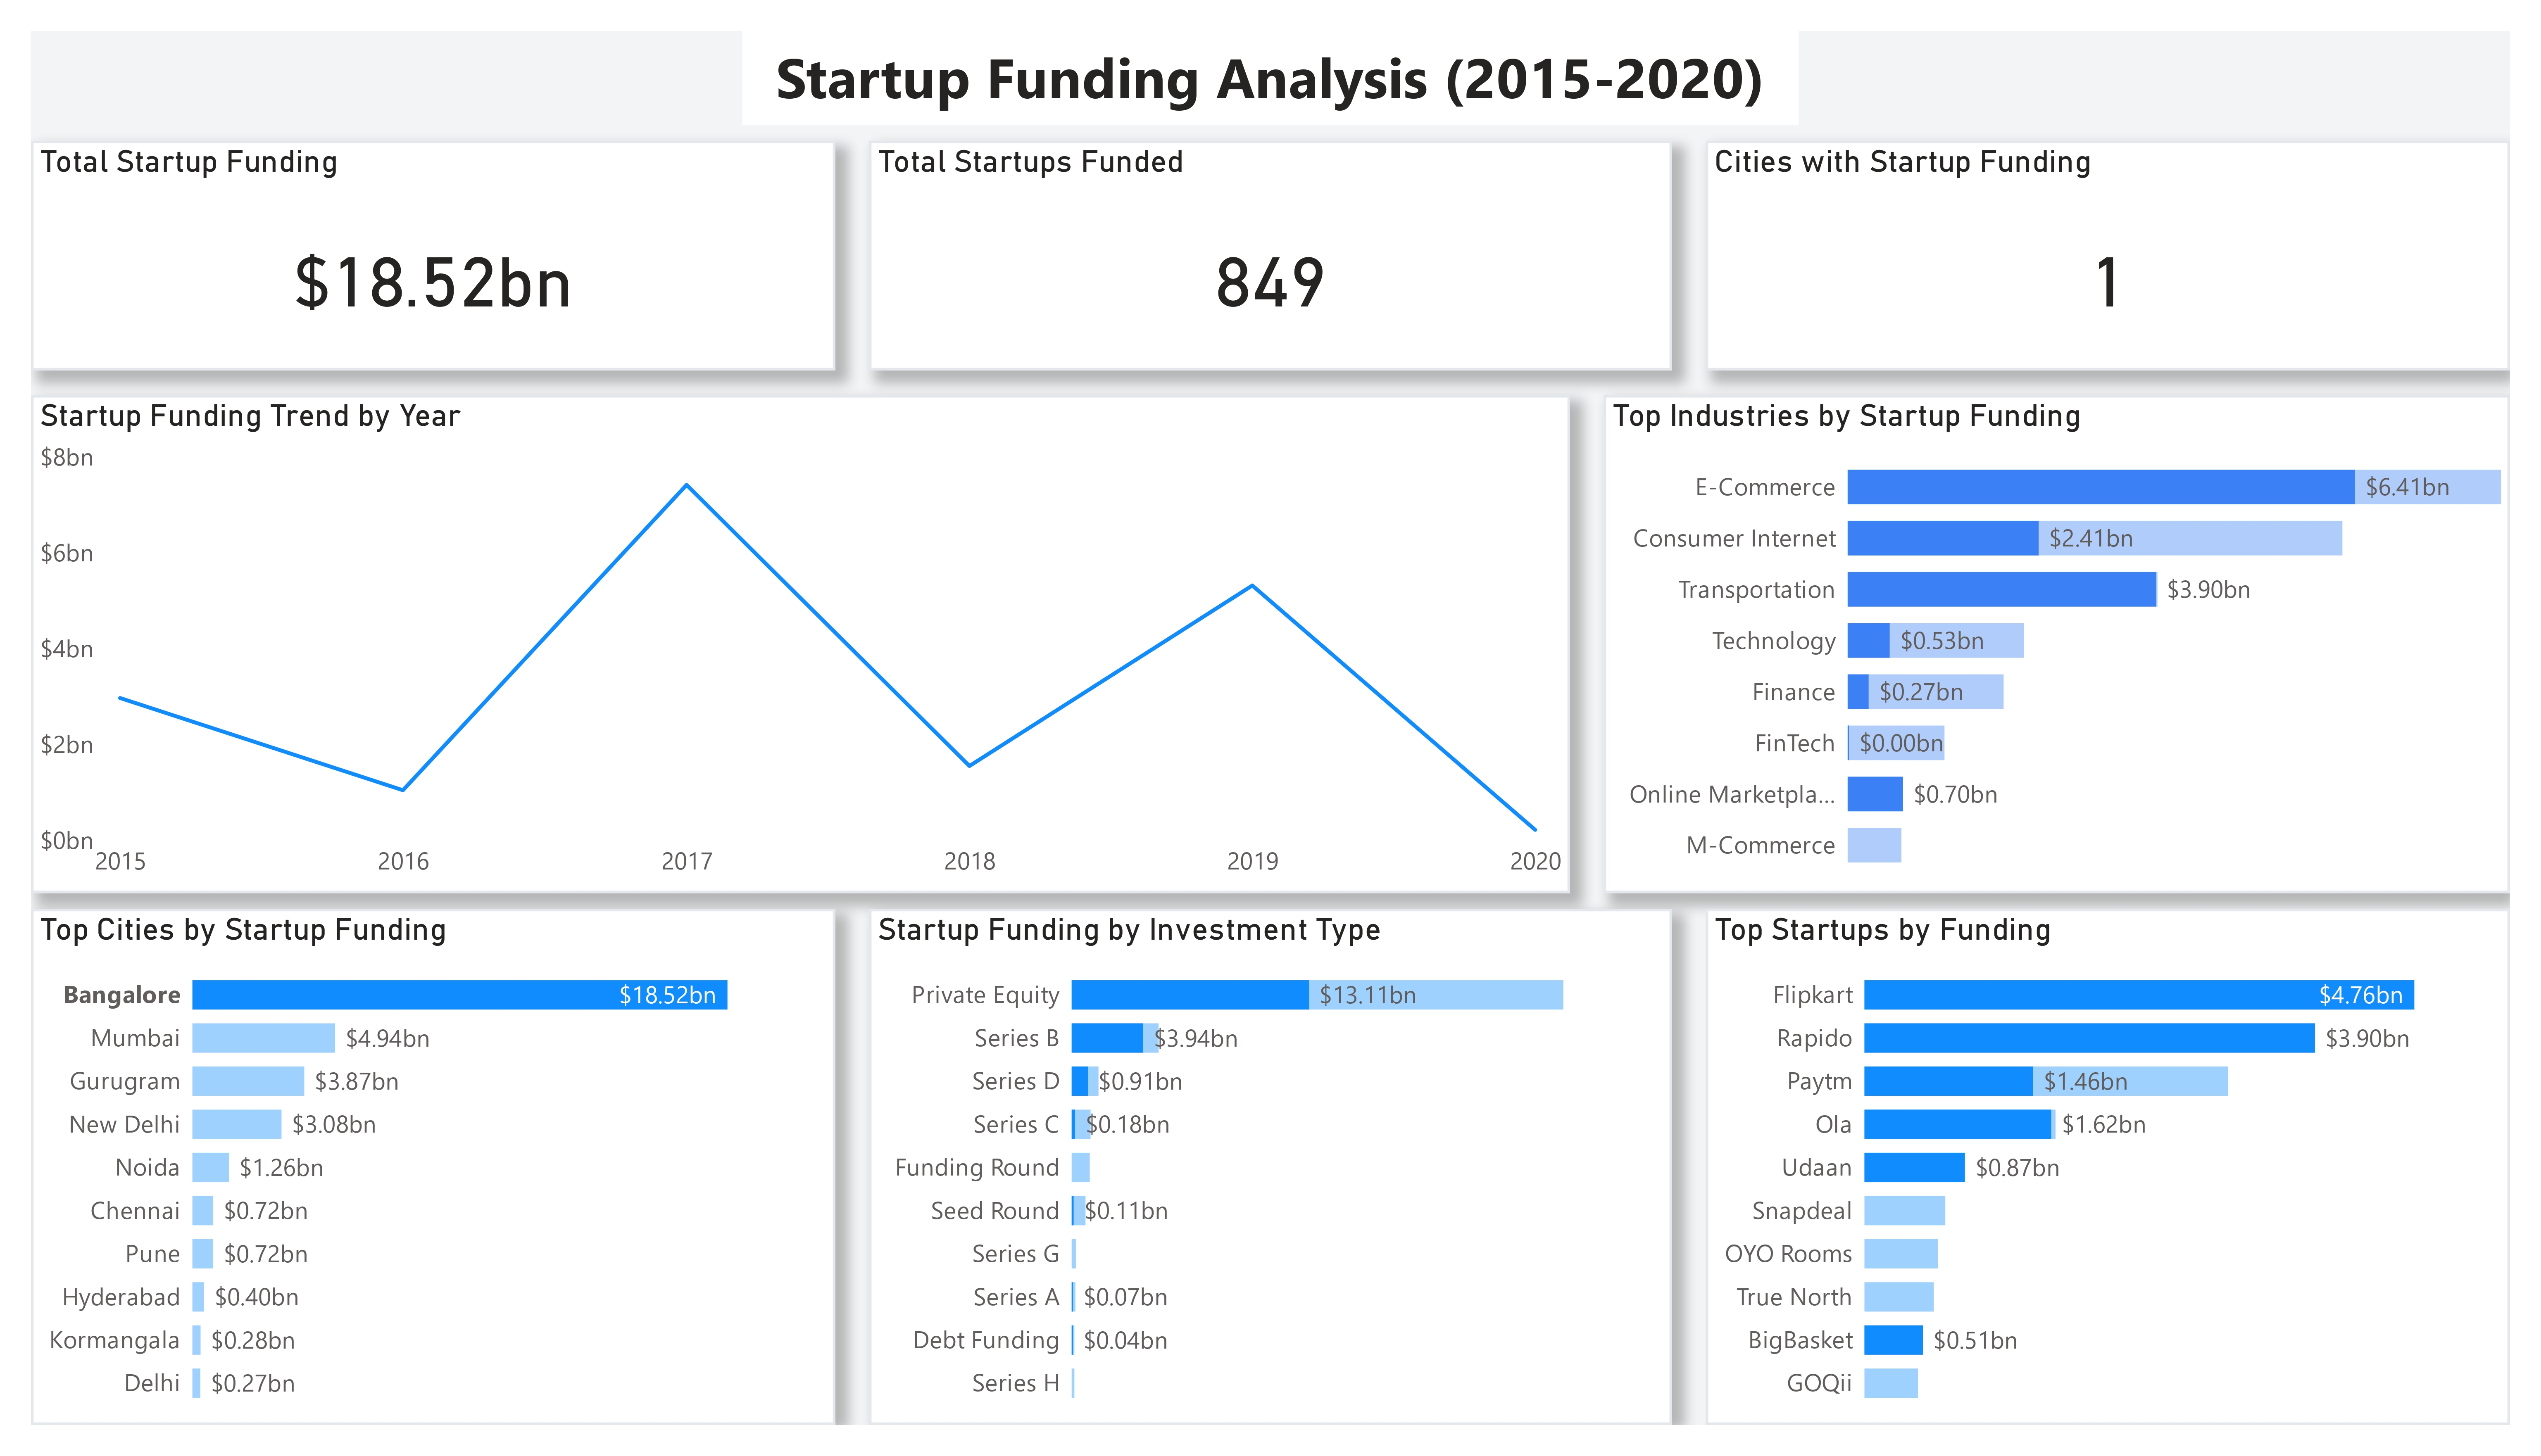

The dashboard page shown, as its layout file describes it:
{"tool":"powerbi","page":{"name":"Page 1","canvas":[1920,1080],"ordinal":0},"visuals":[{"type":"lineChart","title":"Startup Funding Trend by Year","fields":{"Category":["startup_funding.Date dd/mm/yyyy.Variation.Date Hierarchy.Year","startup_funding.Date dd/mm/yyyy.Variation.Date Hierarchy.Quarter","startup_funding.Date dd/mm/yyyy.Variation.Date Hierarchy.Month","startup_funding.Date dd/mm/yyyy.Variation.Date Hierarchy.Day"],"Y":["Sum(startup_funding.Amount in USD)"]},"box":[0,281.9,1192,385.9],"z":0},{"type":"clusteredBarChart","title":"Top Cities by Startup Funding","fields":{"Y":["Sum(startup_funding.Amount in USD)"],"Category":["startup_funding.City  Location"]},"box":[0,679.9,623,399.8],"z":1000},{"type":"clusteredBarChart","title":"Top Industries by Startup Funding","fields":{"Y":["Sum(startup_funding.Amount in USD)"],"Category":["startup_funding.Industry Vertical"]},"box":[1218.2,281.6,701.8,386.6],"z":2000},{"type":"clusteredBarChart","title":"Startup Funding by Investment Type","fields":{"Y":["Sum(startup_funding.Amount in USD)"],"Category":["startup_funding.InvestmentnType"]},"box":[648.5,679.9,623,399.8],"z":3000},{"type":"clusteredBarChart","title":"Top Startups by Funding","fields":{"Y":["Sum(startup_funding.Amount in USD)"],"Category":["startup_funding.Startup Name"]},"box":[1297,679.9,623,399.8],"z":4000},{"type":"textbox","box":[551.5,0,817,72.9],"z":5000},{"type":"card","title":"Total Startup Funding","fields":{"Values":["Sum(startup_funding.Amount in USD)"]},"box":[0,84.6,623,178],"z":6000},{"type":"card","title":"Total Startups Funded","fields":{"Values":["CountNonNull(startup_funding.Startup Name)"]},"box":[648.5,84.6,623,178],"z":7000},{"type":"card","title":"Cities with Startup Funding","fields":{"Values":["Count(startup_funding.City  Location)"]},"box":[1297,84.6,623,178],"z":8000}]}

Visuals, with their boxes on the page's 1920x1080 design canvas (x1, y1, x2, y2). These are canvas units, not pixel positions in the 2541x1456 screenshot, which may show the page scaled, cropped or inside an application window:
"Startup Funding Trend by Year" lineChart: Rect(0, 282, 1192, 668)
"Top Cities by Startup Funding" clusteredBarChart: Rect(0, 680, 623, 1080)
"Top Industries by Startup Funding" clusteredBarChart: Rect(1218, 282, 1920, 668)
"Startup Funding by Investment Type" clusteredBarChart: Rect(648, 680, 1272, 1080)
"Top Startups by Funding" clusteredBarChart: Rect(1297, 680, 1920, 1080)
textbox: Rect(552, 0, 1368, 73)
"Total Startup Funding" card: Rect(0, 85, 623, 263)
"Total Startups Funded" card: Rect(648, 85, 1272, 263)
"Cities with Startup Funding" card: Rect(1297, 85, 1920, 263)
